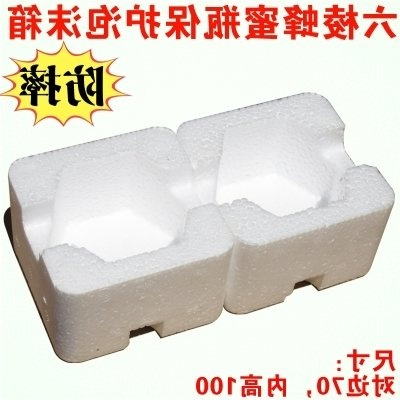5/可回收垃圾/泡沫: (5, 92, 394, 364)
